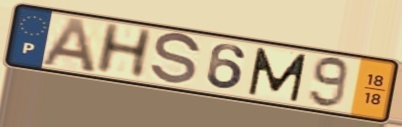6: (206, 42, 246, 92)
9: (304, 55, 351, 111)
A: (37, 16, 99, 75)
H: (91, 21, 157, 79)
M: (245, 45, 310, 104)
S: (147, 31, 204, 87)
